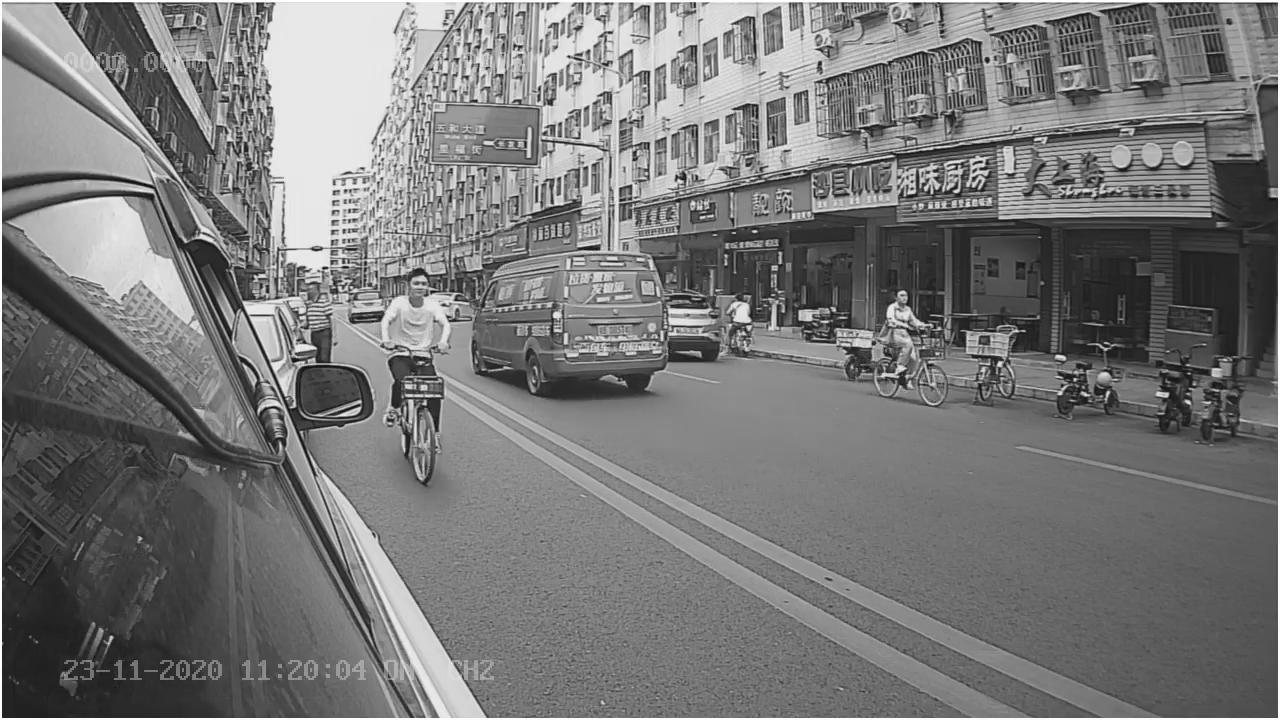person: (373, 267, 459, 357)
